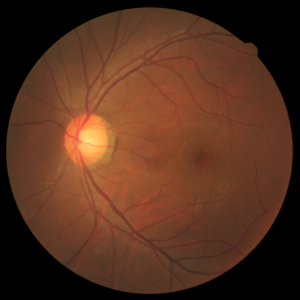retina_disease: (44, 96, 240, 209)
